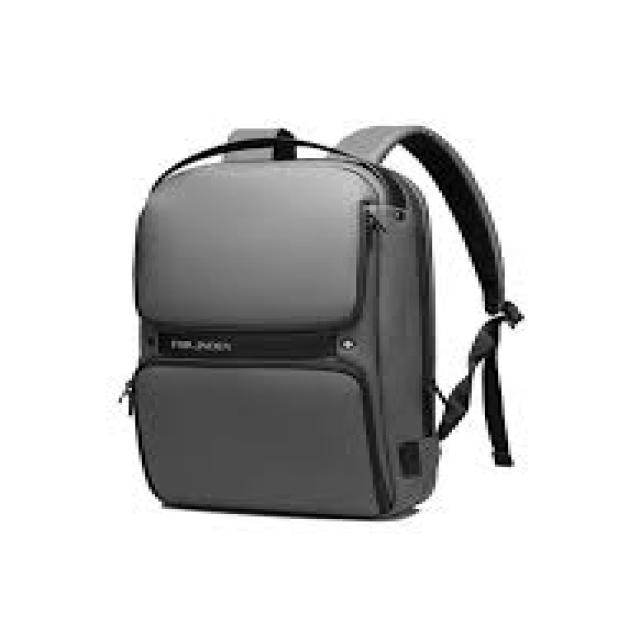backpack: (120, 124, 522, 520)
